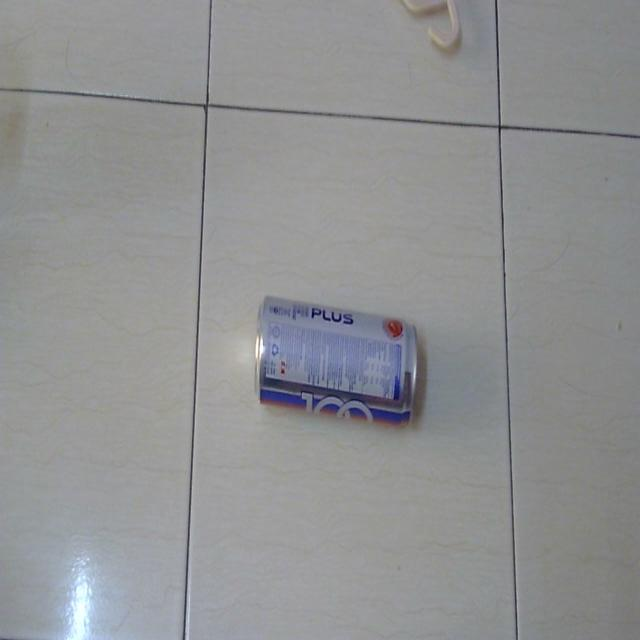metal_laydown_0rotation: (248, 285, 429, 444)
